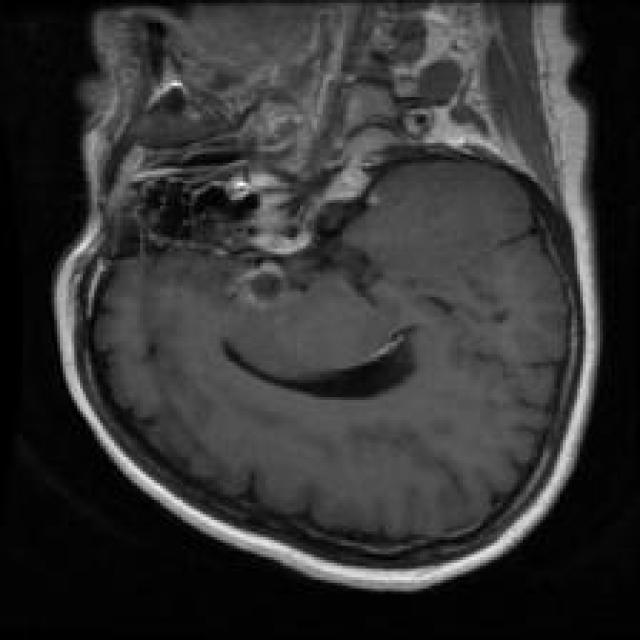pituitary_tumor: (215, 187, 321, 319)
